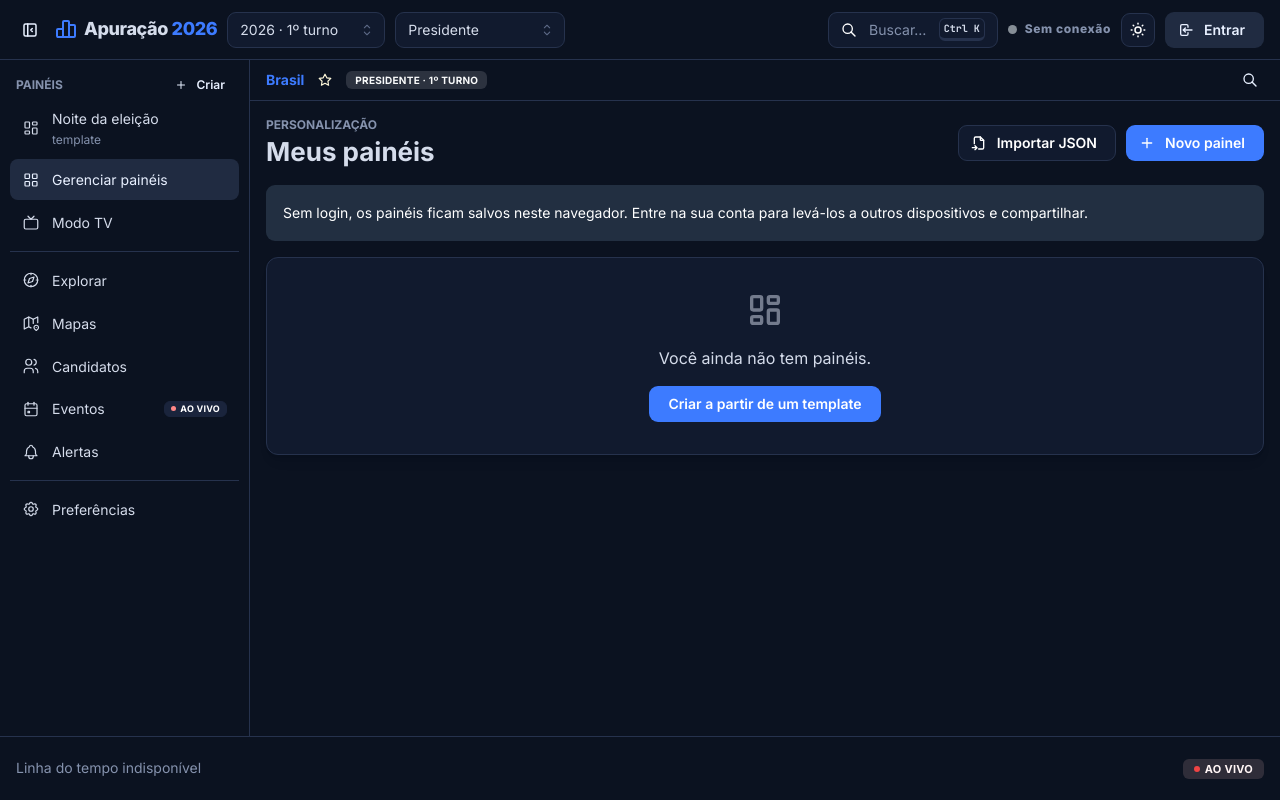
Test: dashboards list › creates a blank dashboard from the new-dashboard dialog and opens it empty
The width and height of the screenshot is (1280, 800).
Click the button "Novo painel". click: (1195, 143)
box: [1126,125,1264,161]
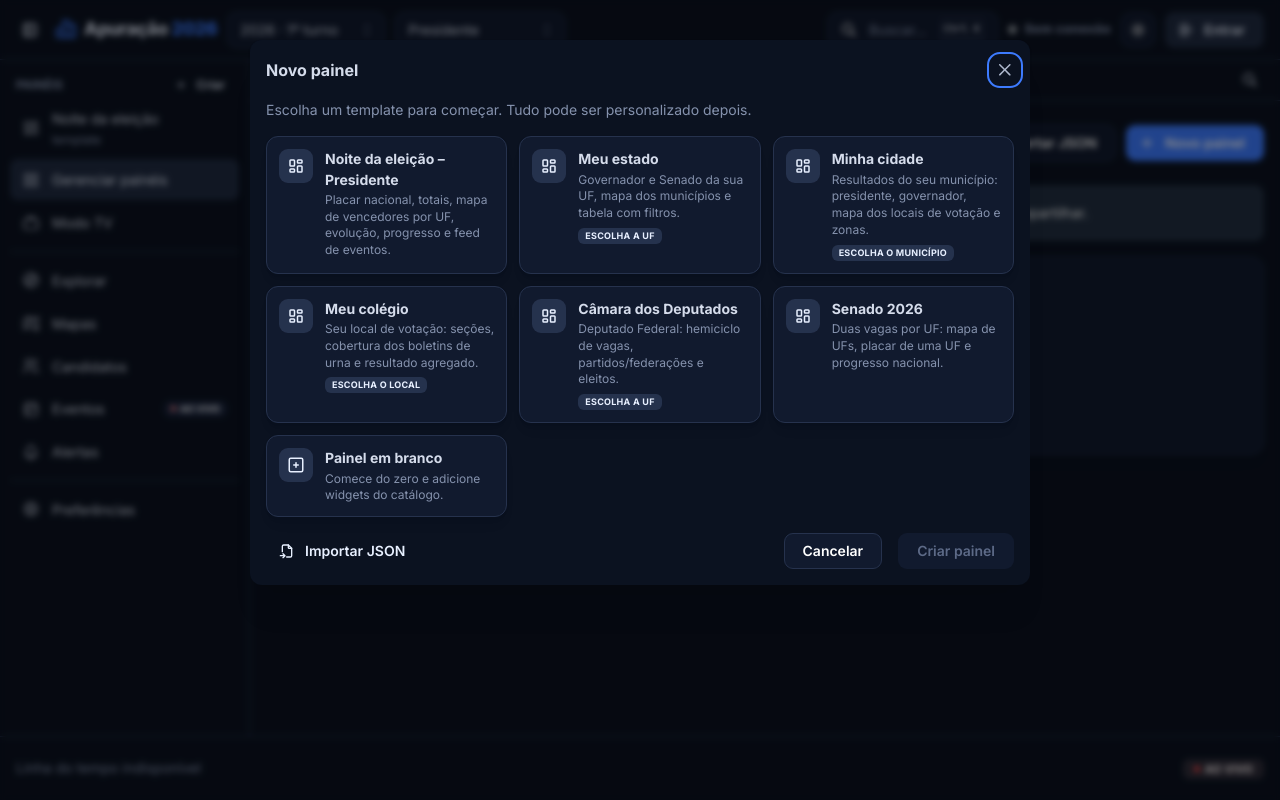
Click the text "Painel em branco". click: (384, 458)
box: [325,449,442,466]
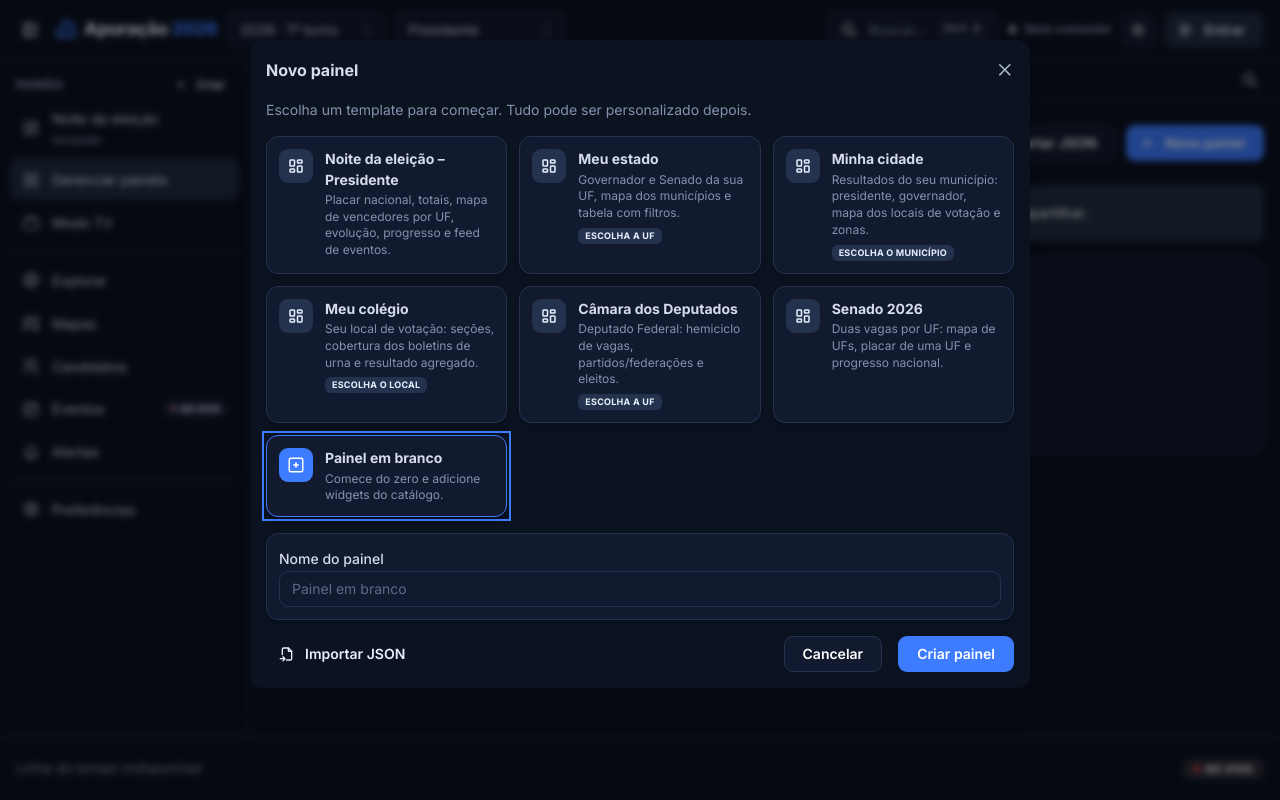
Click the button "Criar painel". click: (956, 654)
box: [898,636,1014,672]
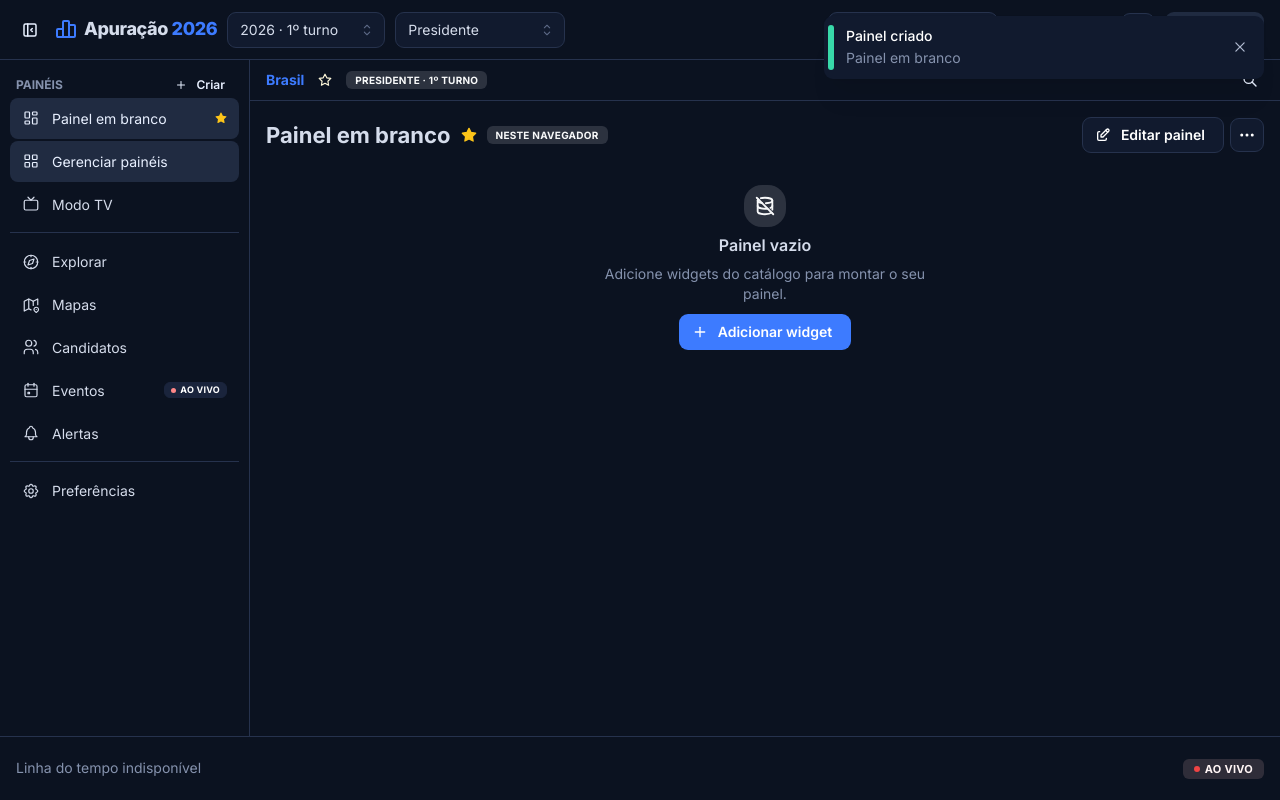
Result: the text "Painel vazio" is shown at [719,233,811,258]
Result: the 2nd text "Painel em branco" is shown at [52,110,167,127]
